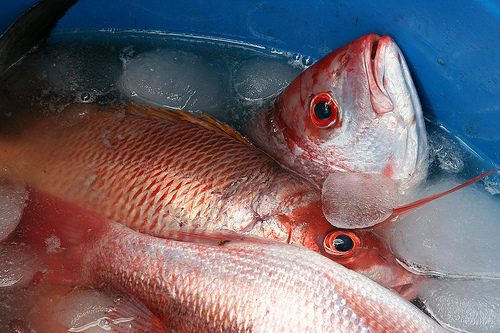fish: (0, 102, 433, 301), (1, 181, 450, 331), (241, 31, 430, 206)
